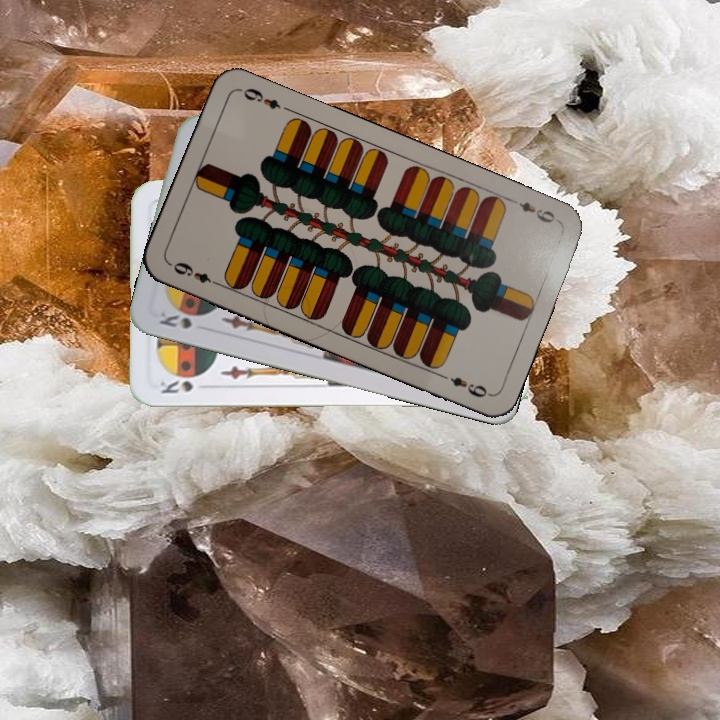E9: (506, 194, 562, 226), (166, 258, 222, 289)
SK: (155, 307, 195, 332), (156, 375, 196, 396)
